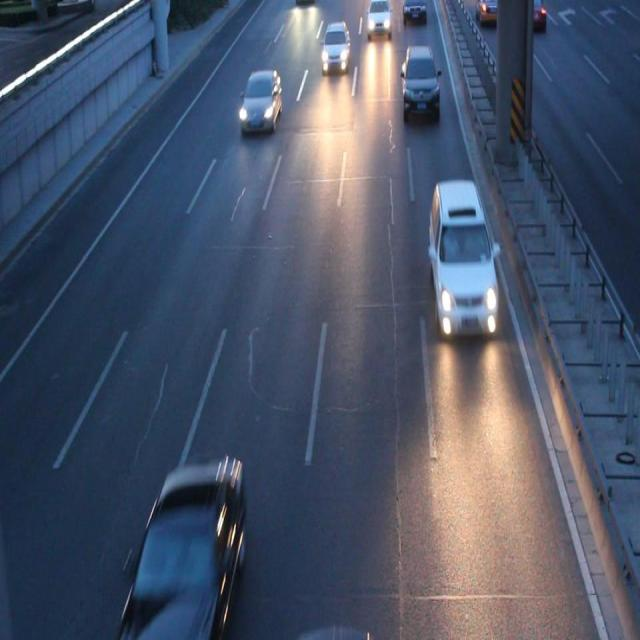car: (126, 460, 242, 626), (402, 45, 438, 110), (242, 71, 280, 125), (322, 24, 348, 67), (516, 1, 544, 30), (366, 1, 391, 33), (474, 1, 504, 22)
truck: (428, 180, 494, 332), (402, 1, 426, 19)
